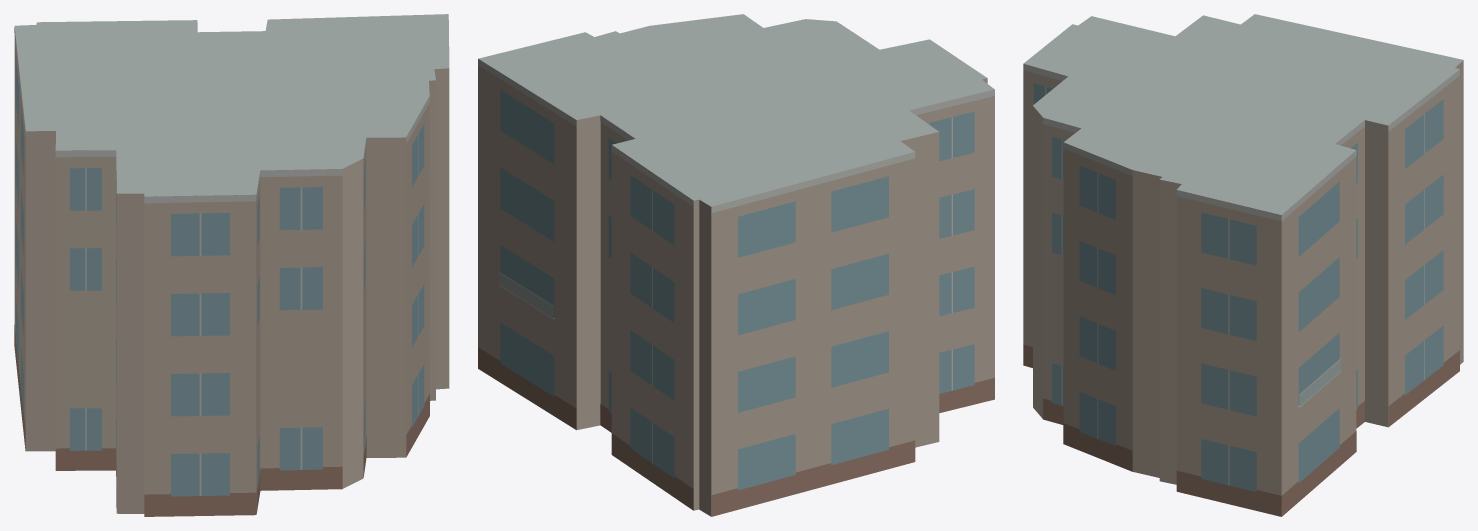
The model's file is survey-upis-32777914.glb.
3 views of the same model, side by side, from view 1: azimuth 30°, elevation 25°; view 2: azimuth 150°, elevation 25°; view 3: azimuth 270°, elevation 25° (orthographic). The views are drawn at different scales.
Parts seen in each view (by area): view 1: survey-upis-32777914.tmp; view 2: survey-upis-32777914.tmp; view 3: survey-upis-32777914.tmp.
Part boxes in pixels (bbox=[...]): survey-upis-32777914.tmp: bbox=[14, 14, 449, 516]; survey-upis-32777914.tmp: bbox=[478, 14, 994, 516]; survey-upis-32777914.tmp: bbox=[1023, 14, 1463, 516].
Size of the model in its own units: 16.73 by 11.7 by 15.48.
